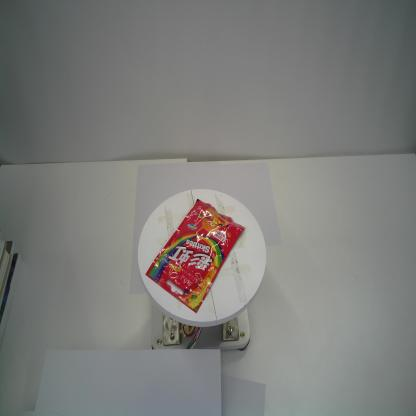Candy: (143, 196, 246, 316)
